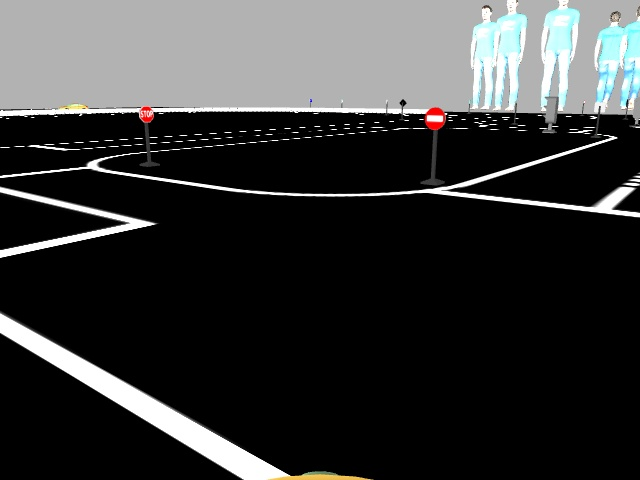NoEntry: (423, 108, 443, 128)
Stop: (137, 104, 153, 121)
